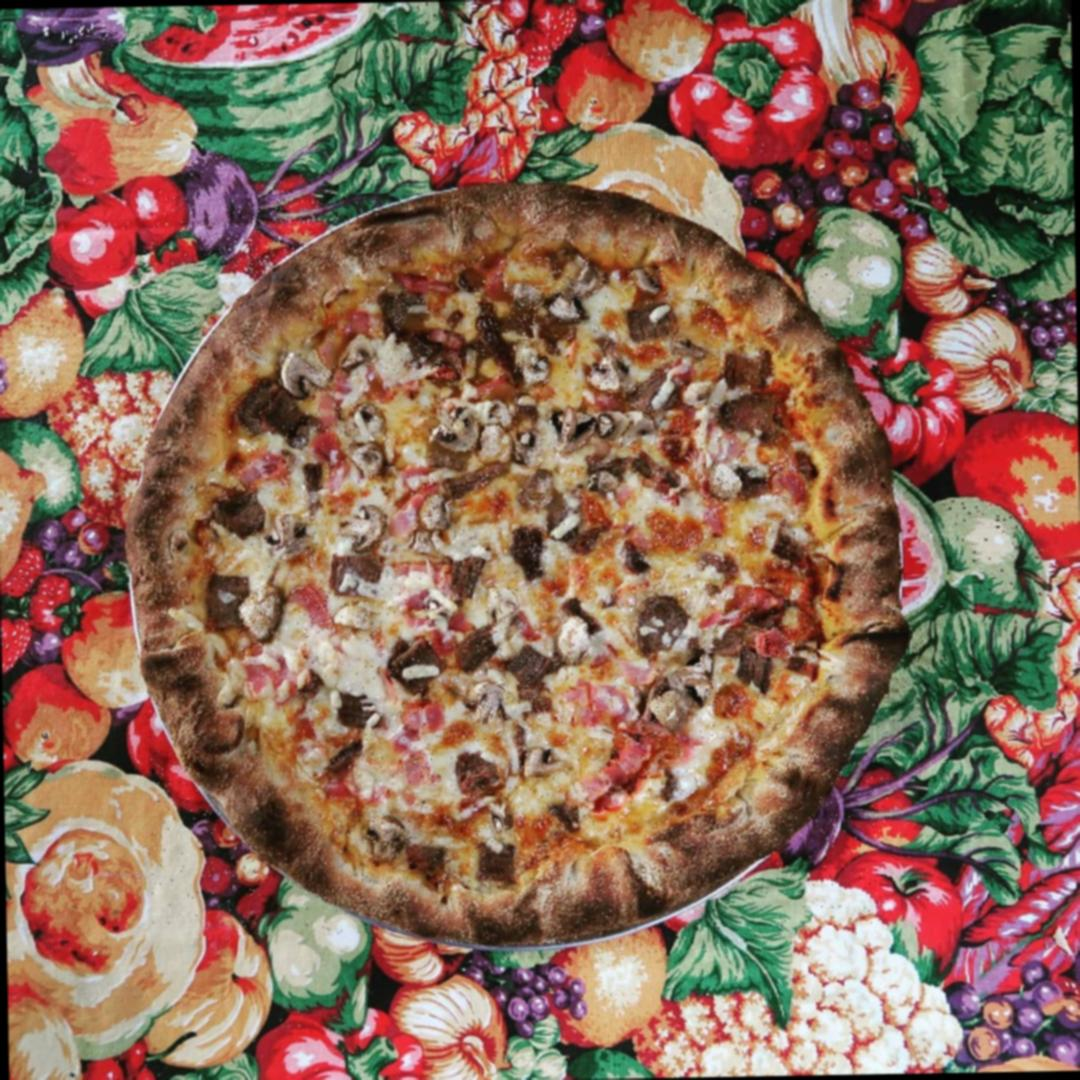Ham: (596, 736, 652, 792), (240, 658, 298, 698), (294, 583, 335, 636), (569, 686, 630, 721), (728, 584, 785, 618), (399, 698, 445, 728), (755, 626, 792, 658), (776, 471, 805, 501), (400, 755, 435, 778)
Mushroom: (434, 404, 516, 461), (560, 404, 656, 448), (648, 669, 711, 728), (239, 582, 291, 644), (349, 404, 390, 474), (515, 281, 583, 322), (280, 352, 336, 398), (556, 616, 608, 660), (468, 680, 514, 725), (364, 816, 408, 861), (345, 506, 388, 550), (524, 748, 576, 782), (274, 512, 314, 552), (518, 469, 556, 510), (413, 590, 459, 622), (518, 340, 548, 386), (484, 588, 522, 622), (708, 464, 742, 502), (594, 358, 626, 396), (425, 496, 455, 536), (630, 268, 663, 297)
Pizza: (139, 185, 892, 938)
Tomatoes: (431, 322, 466, 355), (429, 361, 461, 382)
